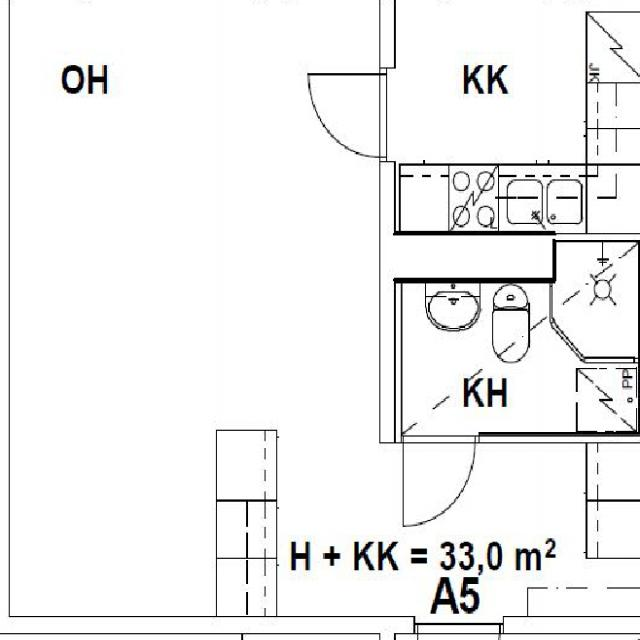door: (402, 434, 474, 529), (307, 73, 387, 157)
